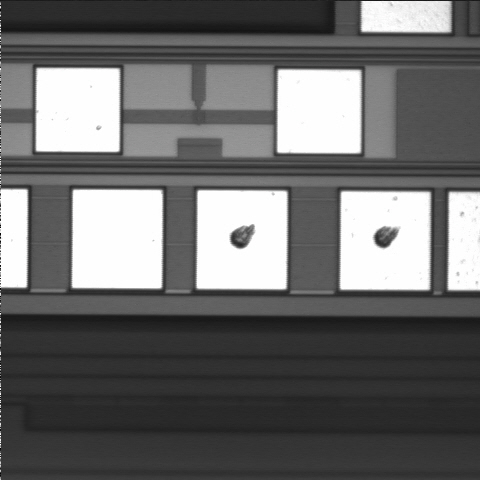pad: (197, 190, 287, 289), (72, 190, 162, 288), (340, 192, 430, 290), (36, 68, 120, 152), (277, 70, 361, 153)
